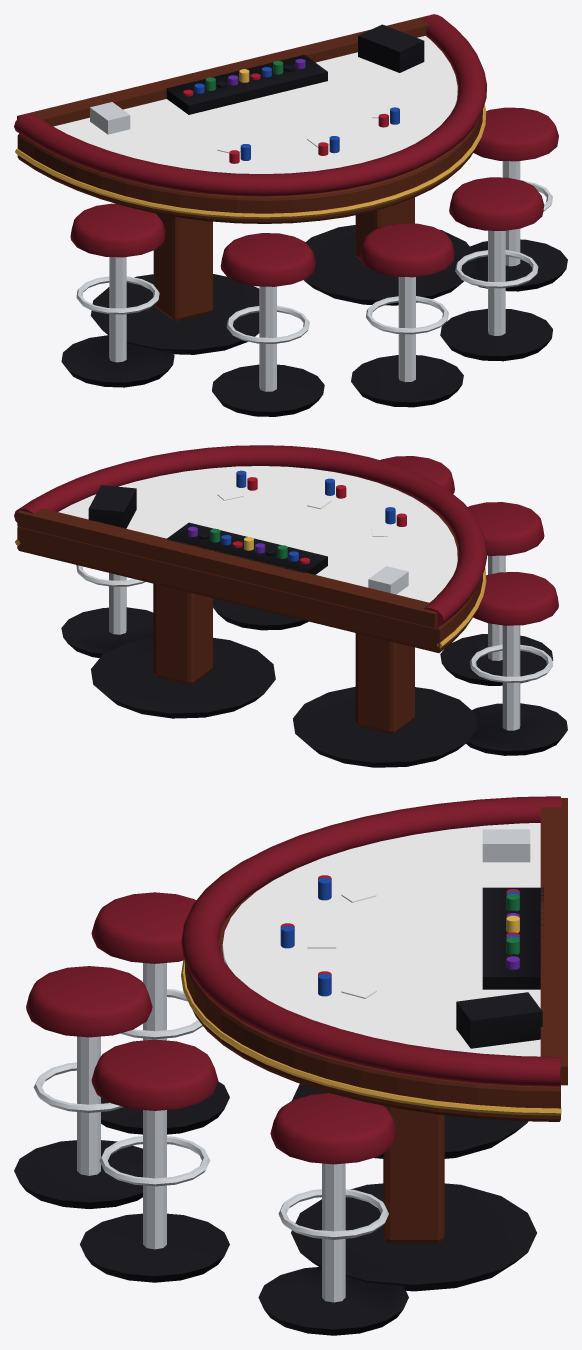
Rendered from table-carnival.glb.
3 renders of one model, top to bottom at view 1: azimuth 30°, elevation 25°; view 2: azimuth 150°, elevation 25°; view 3: azimuth 270°, elevation 25°, orthographic. The views are drawn at different scales.
Parts seen in each view (by area): view 1: table-carnival_lod0; view 2: table-carnival_lod0; view 3: table-carnival_lod0.
Boxes of the visible parts, bbox=[...] form: table-carnival_lod0: bbox=[14, 14, 567, 416]; table-carnival_lod0: bbox=[14, 445, 567, 767]; table-carnival_lod0: bbox=[14, 796, 567, 1335].
Size of what is drawn, in the model's own units: 2.19 by 0.8496 by 1.62.
